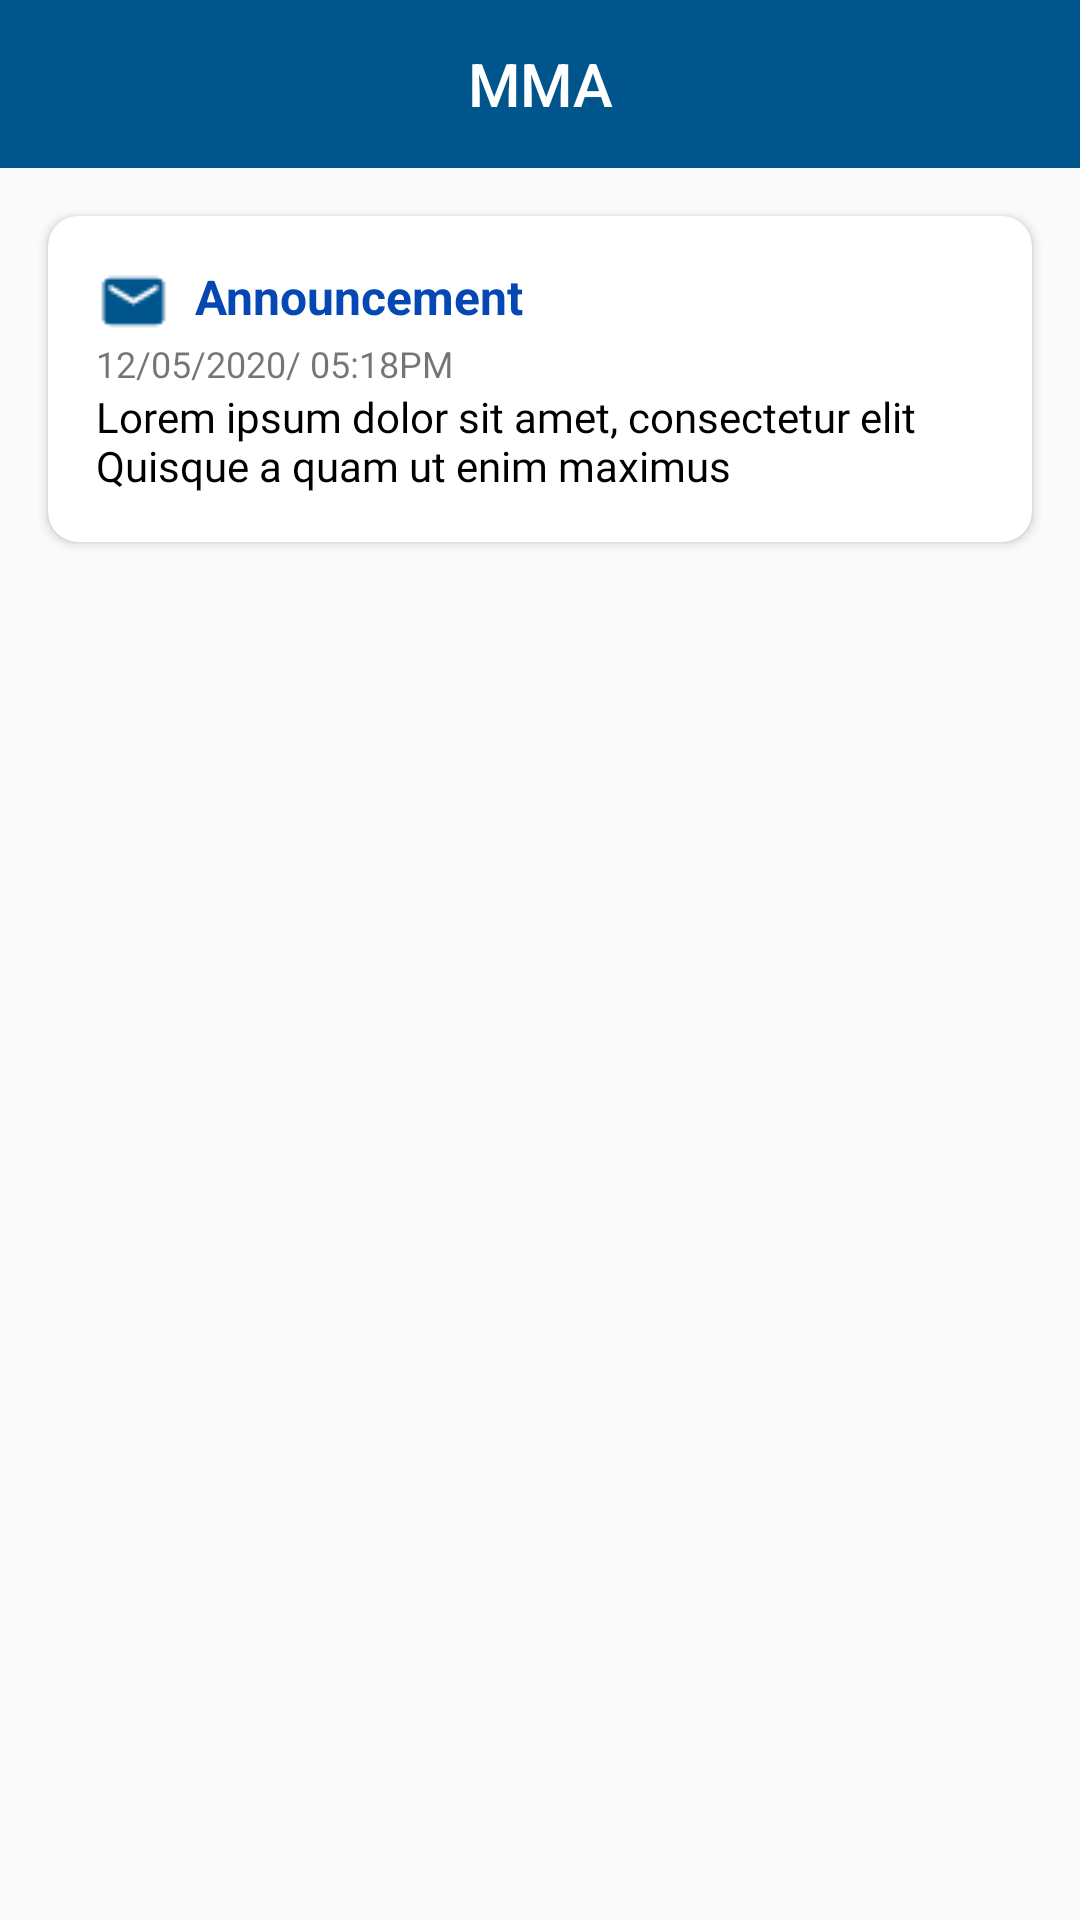

Screen size 1080*1920. Icon name, then its box in pixels as BBox(x1, y1, x2, y2):
read message: BBox(101, 276, 166, 327)
